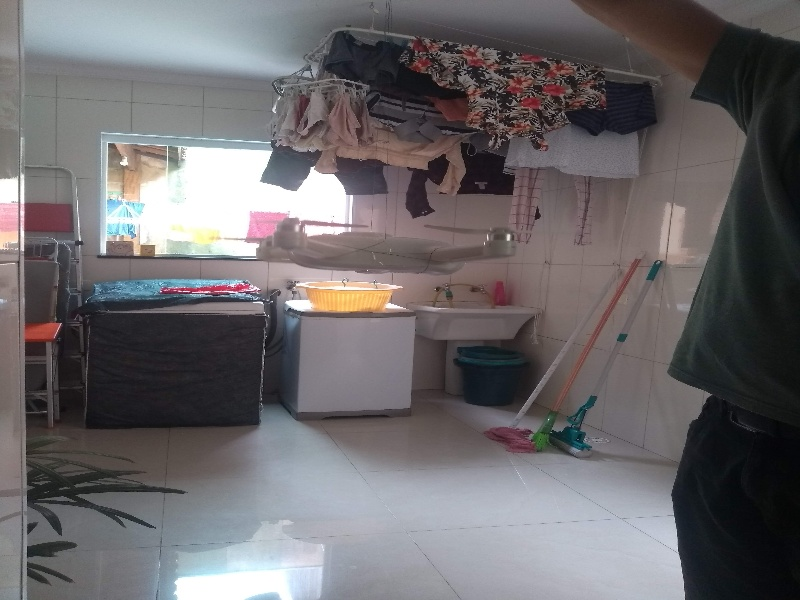drone: (234, 207, 526, 290)
